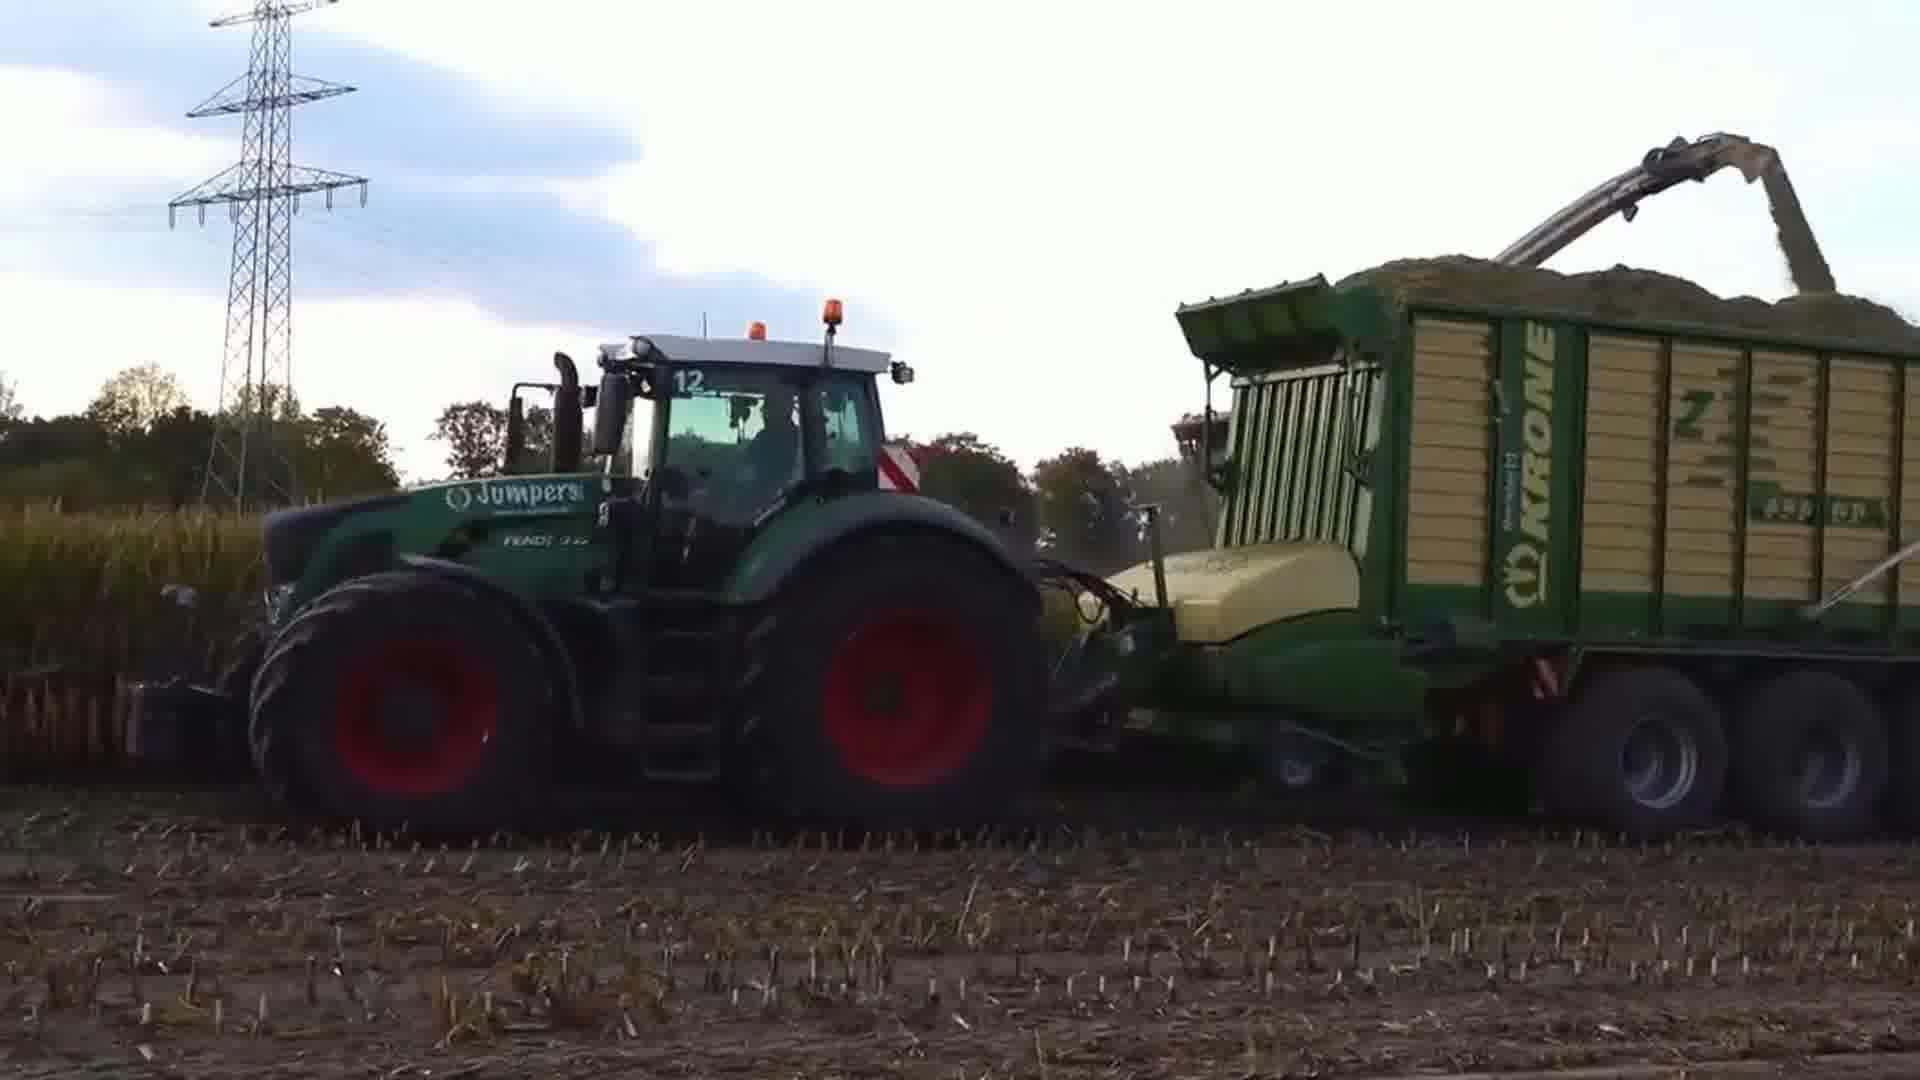tractor: (92, 268, 1079, 847)
trailer: (1077, 240, 1920, 847)
